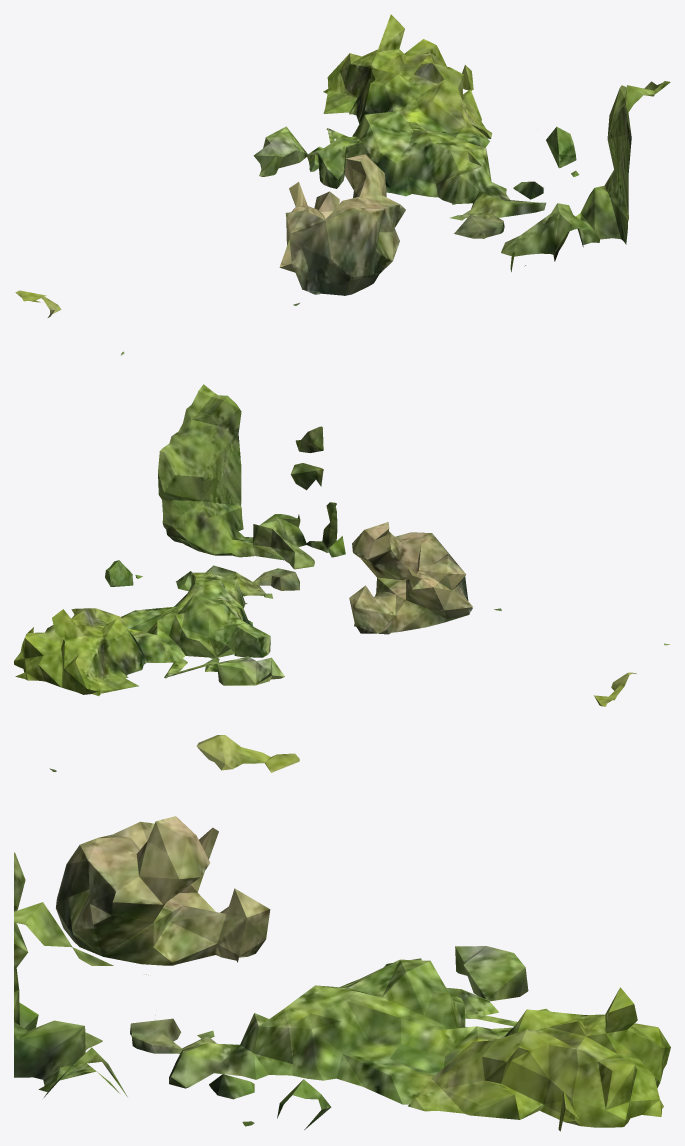
3 views of the same model, one above another, from view 1: azimuth 30°, elevation 25°; view 2: azimuth 150°, elevation 25°; view 3: azimuth 270°, elevation 25° (orthographic). The views are drawn at different scales.
Bounding box in the file's own units: 26.11 × 6.84 × 19.35.
1 material, 1 textured.
